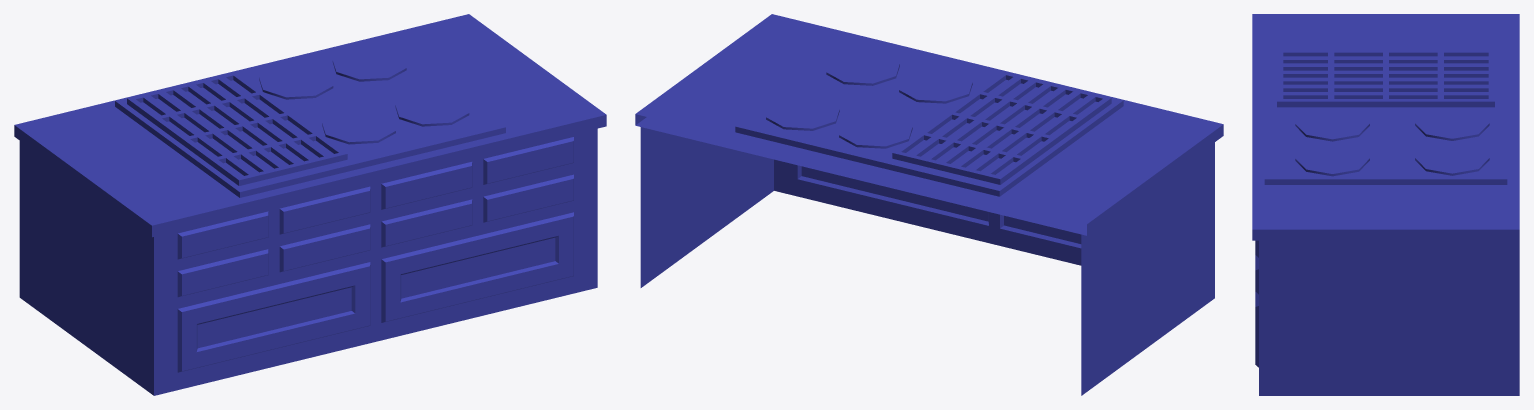
The model's file is stoveAssy_2x1-5x4.FBX.
The picture shows the model from 3 angles, left to right: view 1: azimuth 30°, elevation 25°; view 2: azimuth 150°, elevation 25°; view 3: azimuth 270°, elevation 25°; orthographic projection. The views are drawn at different scales.
Visible parts, largest first — view 1: stoveWood, stoveMarble, stoveDarkMetal, stoveLightMetal; view 2: stoveWood, stoveMarble, stoveDarkMetal, stoveLightMetal; view 3: stoveWood, stoveMarble, stoveDarkMetal, stoveLightMetal.
Boxes of the visible parts, x1,y1,x2,y2 form: stoveWood: [19, 128, 597, 395]; stoveMarble: [14, 14, 606, 237]; stoveDarkMetal: [127, 48, 469, 185]; stoveLightMetal: [115, 36, 505, 197]; stoveWood: [640, 127, 1214, 395]; stoveMarble: [635, 14, 1223, 235]; stoveDarkMetal: [766, 52, 1111, 184]; stoveLightMetal: [735, 36, 1123, 196]; stoveWood: [1255, 240, 1519, 395]; stoveMarble: [1252, 14, 1519, 240]; stoveDarkMetal: [1277, 50, 1494, 176]; stoveLightMetal: [1264, 53, 1507, 184].
Bounding box in the file's own units: 4.1 × 1.6 × 2.15.
